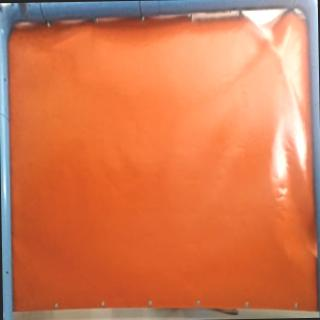Hit-hRxx: (274, 48, 286, 62)
